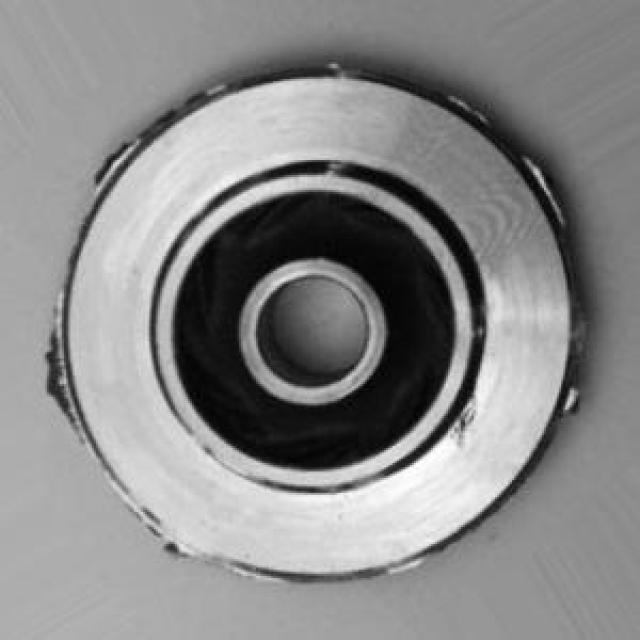Defect: (45, 336, 73, 410)
